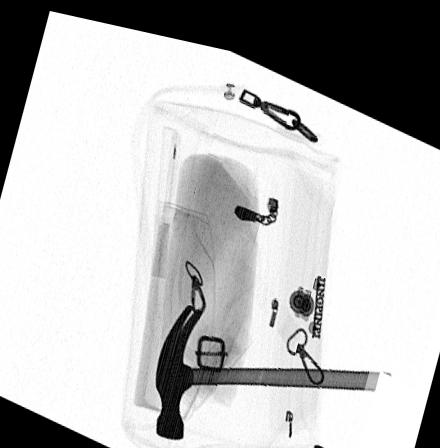Hammer: (154, 294, 391, 432)
